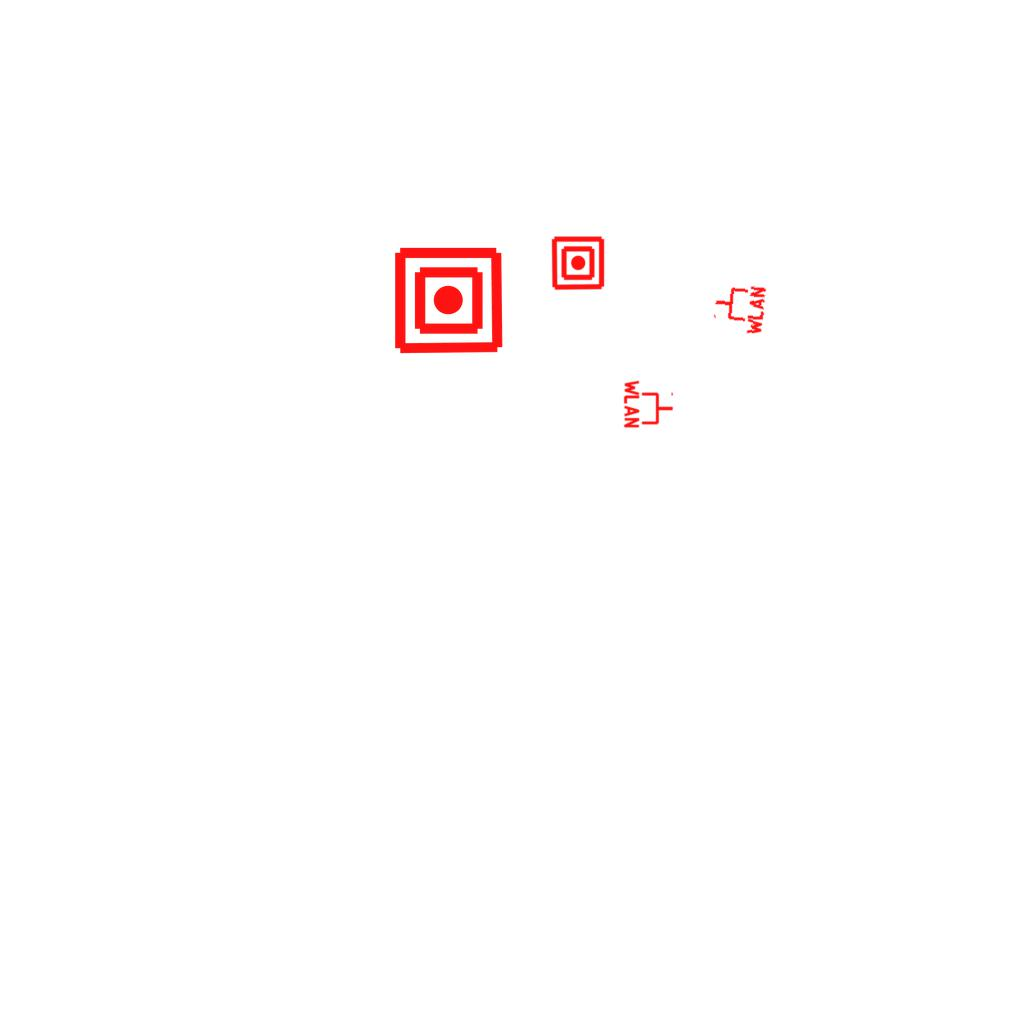NAM-Nichtautomatischer_Melder: (392, 244, 505, 357), (550, 235, 606, 291)
WLAN: (710, 280, 768, 338), (623, 378, 675, 430)
